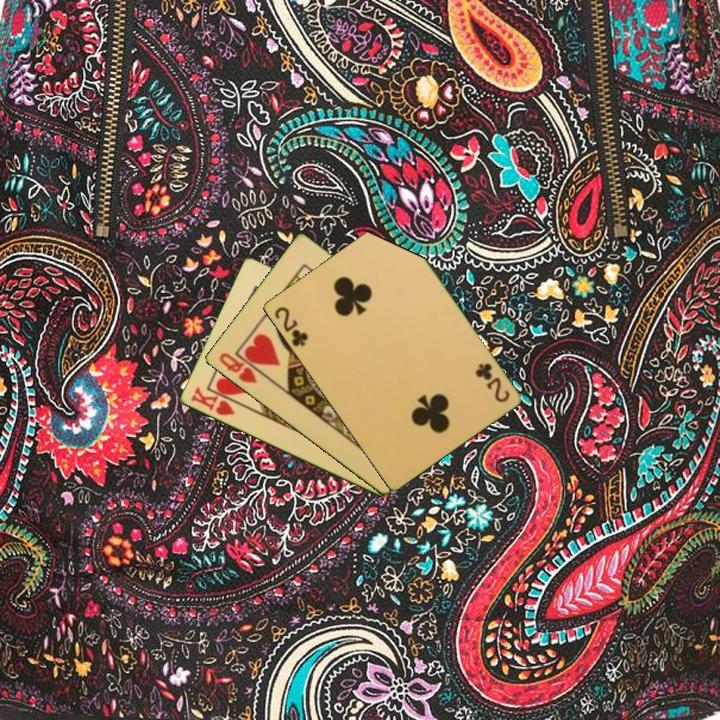2c: (270, 303, 311, 350), (472, 359, 512, 405)
Kh: (187, 383, 244, 419)
Qh: (215, 349, 260, 387)
